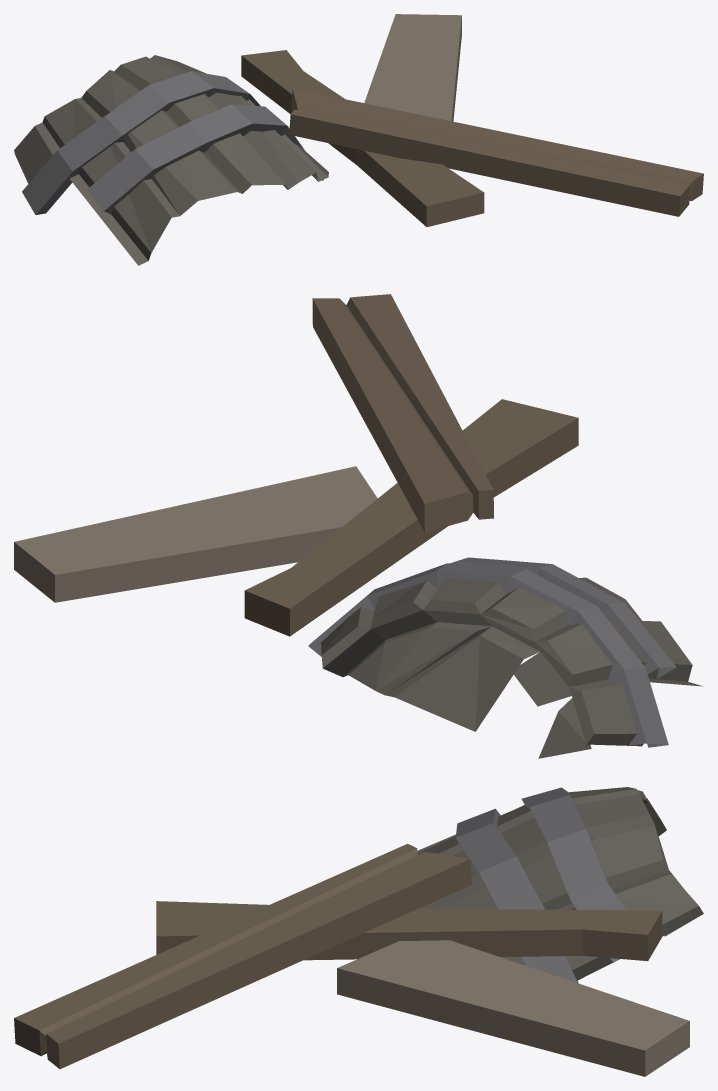
Rendered from SM_Prop_Debris_03.glb.
The picture shows the model from 3 angles, top to bottom: view 1: azimuth 30°, elevation 25°; view 2: azimuth 150°, elevation 25°; view 3: azimuth 270°, elevation 25°; orthographic projection. The views are drawn at different scales.
Parts seen in each view (by area): view 1: SM_Prop_Debris_03_part00; view 2: SM_Prop_Debris_03_part00; view 3: SM_Prop_Debris_03_part00.
Part boxes in pixels (x1=…): SM_Prop_Debris_03_part00: x1=14, y1=14, x2=703, y2=265; SM_Prop_Debris_03_part00: x1=14, y1=294, x2=703, y2=758; SM_Prop_Debris_03_part00: x1=14, y1=787, x2=703, y2=1076.
Size of the model in its own units: 1.4 by 0.3229 by 1.42.
1 material, 1 textured.
